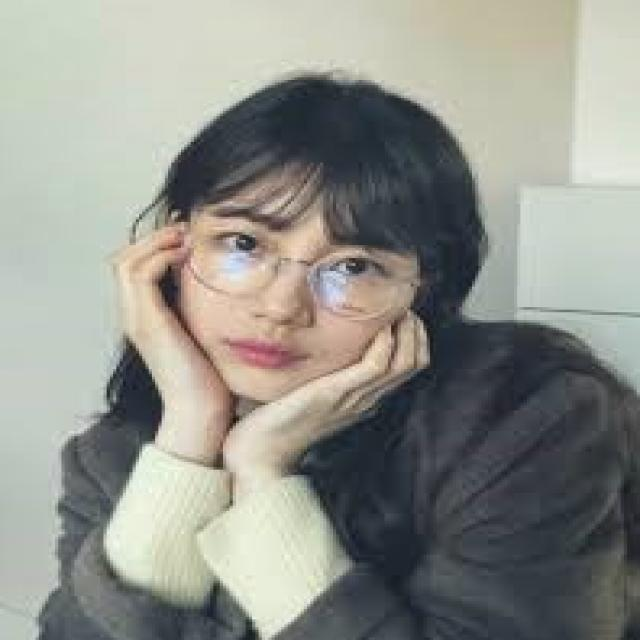Glasses: (155, 204, 449, 325)
